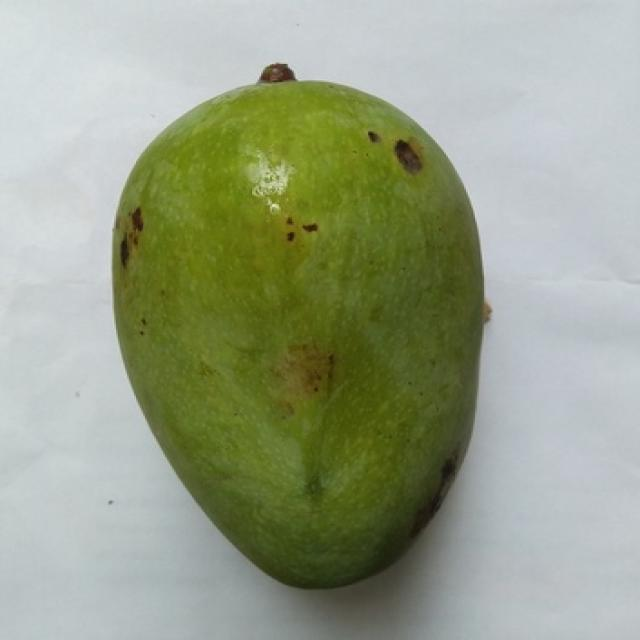Mango: (114, 65, 484, 586)
